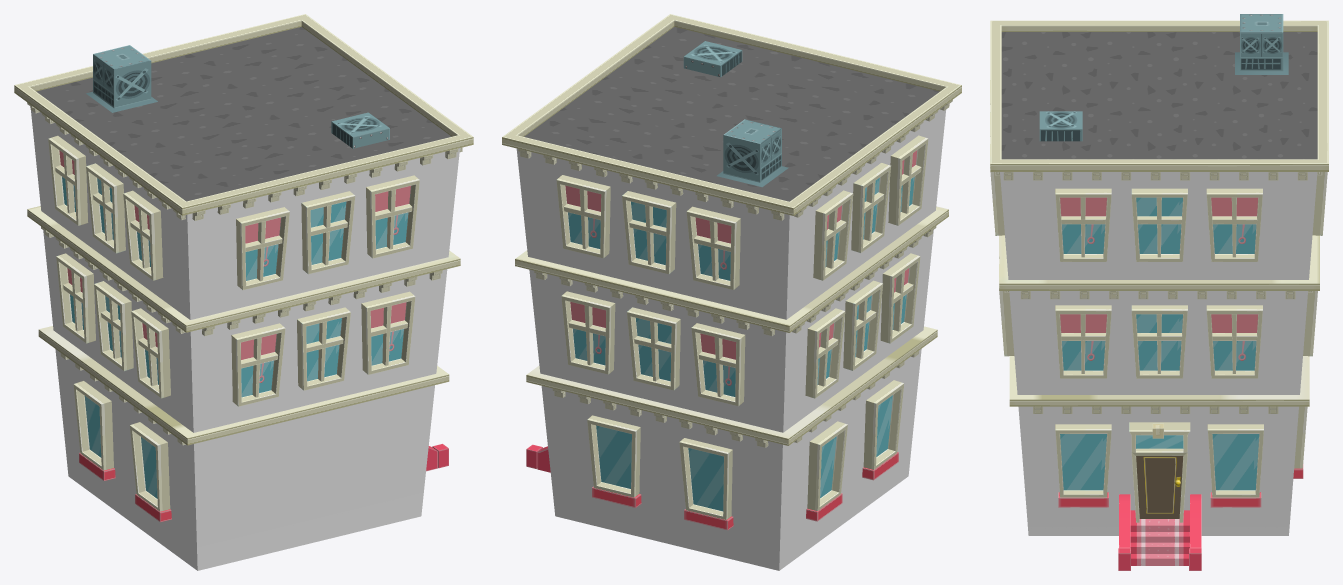
File: maison.fbx
3 views of the same model, side by side, from view 1: azimuth 30°, elevation 25°; view 2: azimuth 150°, elevation 25°; view 3: azimuth 270°, elevation 25° (orthographic).
Parts seen in each view (by area): view 1: pCube15, pCube31, pCube30, pCube29, pCube43, pCube3.002, pCube11.002, pCube7.002, pCube3.003, pCube7.003, pCube11.003, pCube25.004 (+8 smaller); view 2: pCube15, pCube31, pCube30, pCube29, pCube25.006, pCube25.007, pCube43, pCube3.005, pCube11.005, pCube7.005, pCube3.004, pCube11.004 (+10 smaller); view 3: pCube15, pCube31, pCube18, pCube30, pCube29, pCube25, pCube25.001, pCube7.001, pCube3.001, pCube11.001, pCube7, pCube11 (+13 smaller).
Boxes of the visible parts, x1,y1,x2,y2 form: pCube15: [31, 110, 459, 570]; pCube31: [14, 14, 473, 215]; pCube30: [27, 206, 460, 332]; pCube29: [38, 326, 449, 445]; pCube43: [86, 45, 157, 112]; pCube3.002: [231, 323, 285, 406]; pCube11.002: [361, 291, 415, 374]; pCube7.002: [297, 307, 350, 390]; pCube3.003: [236, 207, 289, 290]; pCube7.003: [301, 191, 355, 274]; pCube11.003: [366, 175, 419, 258]; pCube25.004: [129, 422, 170, 511]; pCube15: [516, 109, 945, 570]; pCube31: [502, 14, 961, 215]; pCube30: [515, 206, 948, 332]; pCube29: [526, 326, 937, 445]; pCube25.006: [587, 415, 640, 497]; pCube25.007: [679, 438, 732, 519]; pCube43: [717, 119, 788, 187]; pCube3.005: [556, 175, 610, 258]; pCube11.005: [686, 206, 740, 290]; pCube7.005: [622, 191, 676, 274]; pCube3.004: [561, 291, 615, 374]; pCube11.004: [691, 323, 745, 406]; pCube15: [1000, 172, 1317, 535]; pCube31: [990, 20, 1328, 171]; pCube18: [1129, 422, 1190, 522]; pCube30: [999, 235, 1319, 290]; pCube29: [1009, 356, 1309, 406]; pCube25: [1055, 424, 1111, 497]; pCube25.001: [1207, 424, 1263, 497]; pCube7.001: [1131, 188, 1187, 261]; pCube3.001: [1055, 188, 1111, 261]; pCube11.001: [1206, 188, 1262, 261]; pCube7: [1131, 305, 1187, 378]; pCube11: [1206, 305, 1262, 378].
Bounding box in the file's own units: 13.27 × 16.1 × 11.7.
